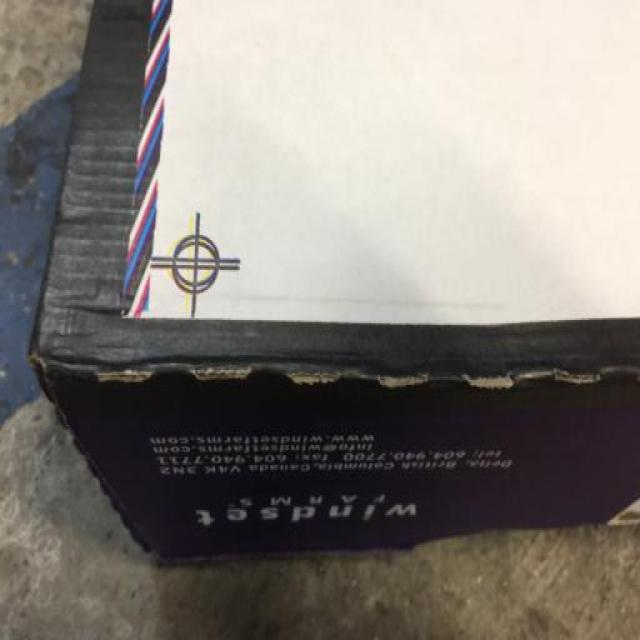cardboard: (26, 1, 640, 563)
